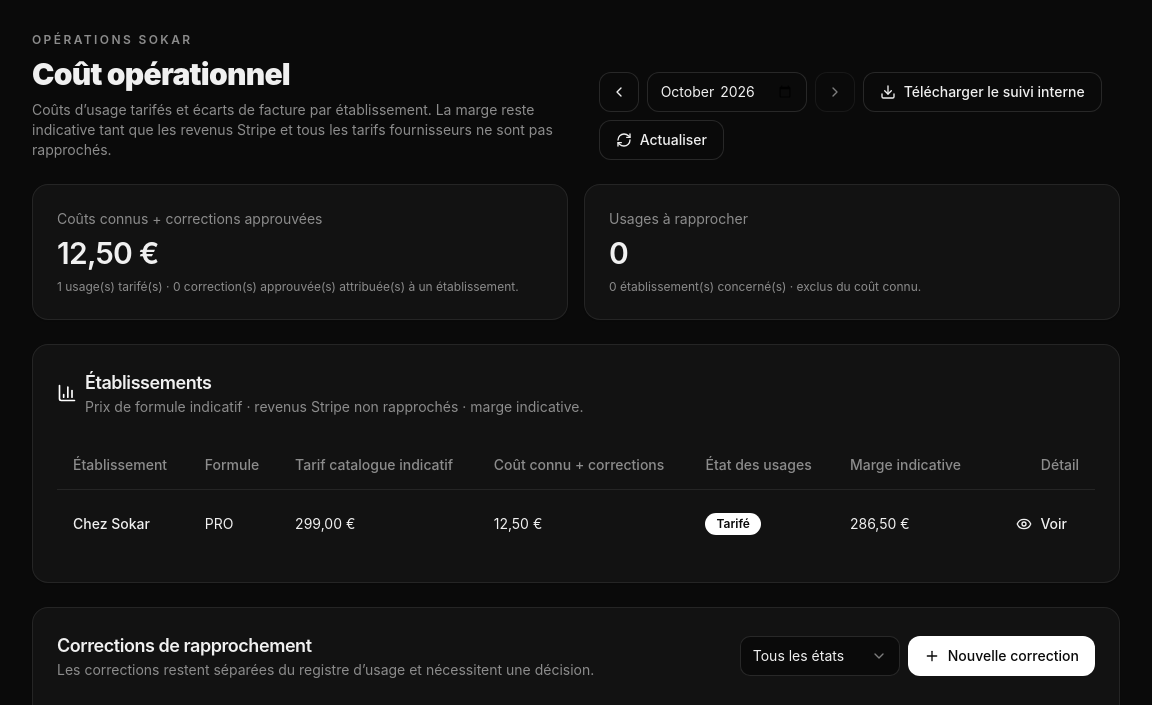
AdminMarginPage › affiche l’échec d’un export dans la page, sans la quitter
Expected: the text "Établissements" is shown, [85,372,211,393]
Click the button "Télécharger le suivi interne": (982, 92) [863,72,1102,112]
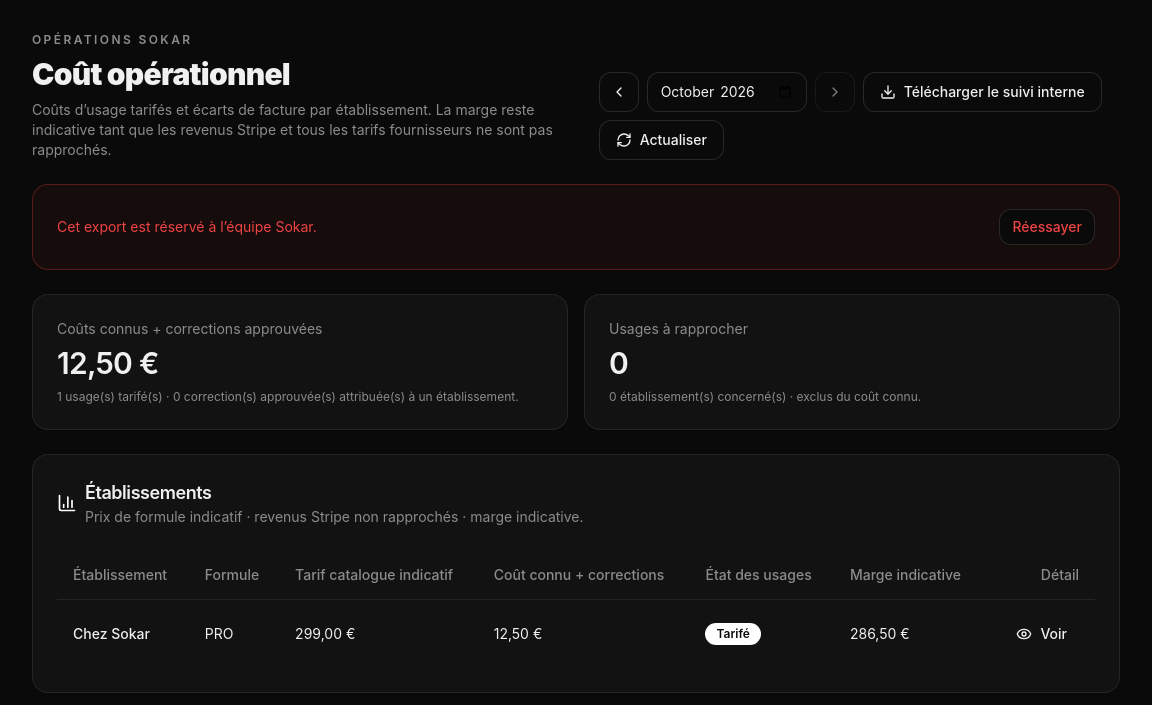
Result: the text "Cet export est réservé à l’équipe Sokar." is shown at [57,217,317,237]
